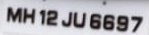character: (6, 6, 22, 23), (130, 15, 143, 33), (22, 7, 35, 24), (72, 11, 85, 28), (102, 13, 114, 31), (46, 9, 58, 26), (89, 12, 101, 29), (116, 15, 128, 32), (61, 11, 72, 27), (38, 8, 45, 25)
